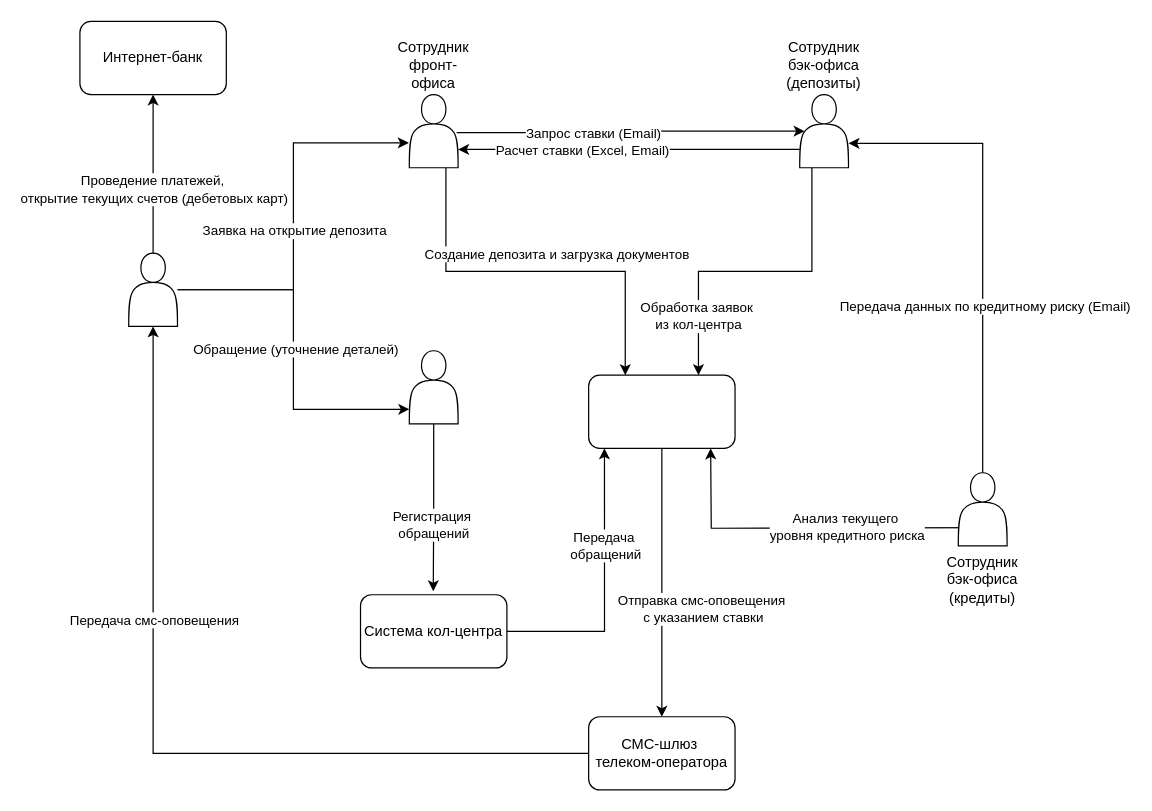
This 1152x811 diagram has some shape labels left out. Each missing label, with the centre of its shape:
АБС: the point at 661,411
Клиент: the point at 152,289
Оператор кол-центра: the point at 433,387
